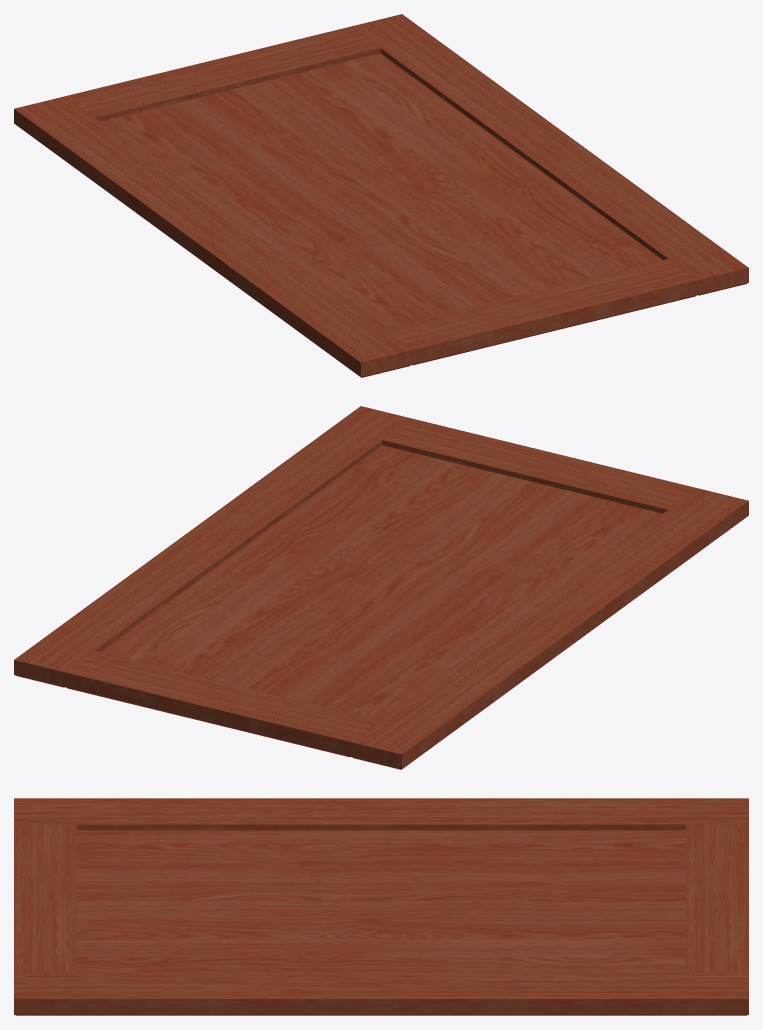
3 views of the same model, one above another, from view 1: azimuth 30°, elevation 25°; view 2: azimuth 150°, elevation 25°; view 3: azimuth 270°, elevation 25° (orthographic). The views are drawn at different scales.
Parts seen in each view (by area): view 1: Red_wood.001; view 2: Red_wood.001; view 3: Red_wood.001.
Part boxes in pixels (bbox=[...]): Red_wood.001: bbox=[14, 14, 748, 377]; Red_wood.001: bbox=[14, 406, 748, 769]; Red_wood.001: bbox=[14, 798, 748, 1015].
Bounding box in the file's own units: 0.4498 × 0.0182 × 0.6962.
Materials: 1 (1 with a texture image).
